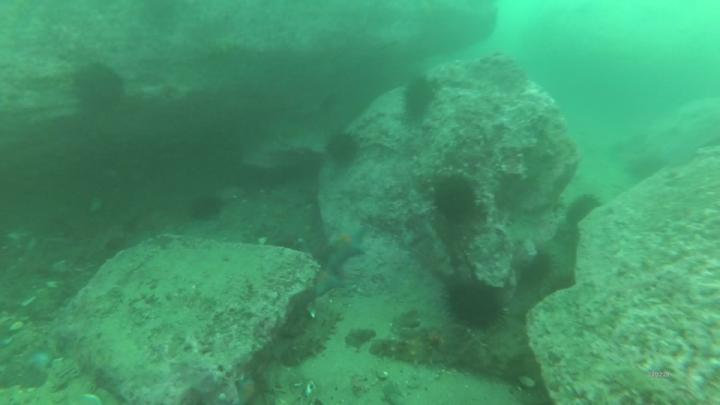echinus: (445, 282, 501, 327), (75, 66, 122, 112), (437, 178, 474, 219), (405, 78, 433, 120), (329, 135, 358, 164), (570, 196, 602, 222), (189, 198, 213, 218)
holothurian: (285, 308, 342, 366), (369, 338, 444, 367)
starfish: (330, 226, 365, 264), (316, 271, 343, 298)
